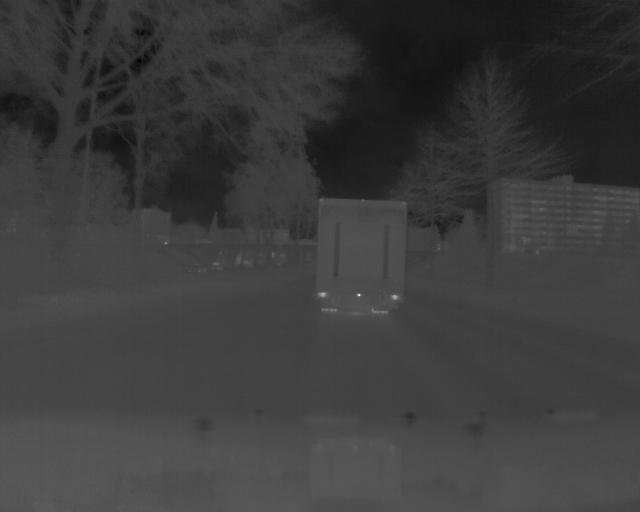car: (314, 196, 411, 320)
